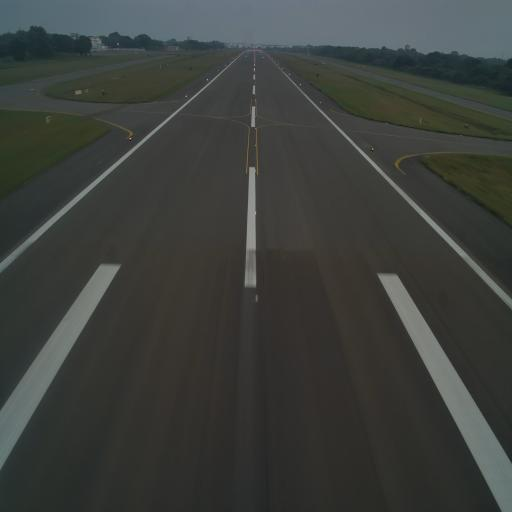on: (253, 291, 260, 307), (370, 146, 375, 154), (254, 208, 257, 218), (128, 135, 132, 142), (254, 166, 258, 172), (254, 125, 257, 131), (254, 114, 257, 120), (184, 94, 188, 98), (319, 100, 322, 105), (254, 141, 256, 148)
